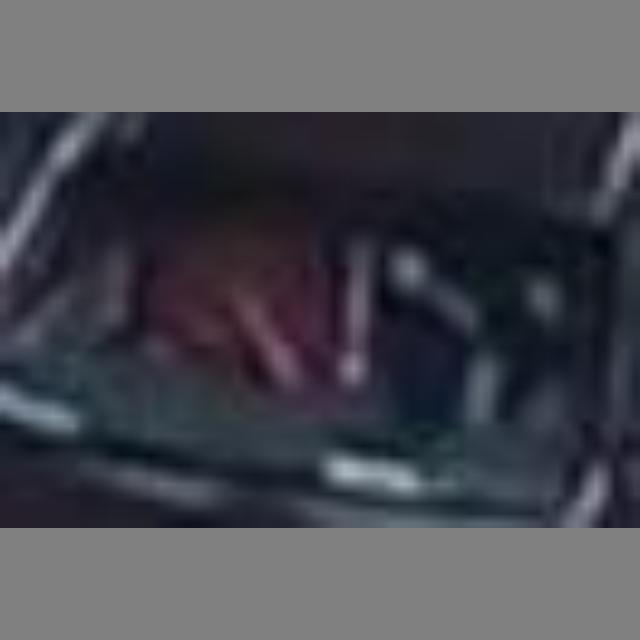pakai: (107, 190, 359, 403)
